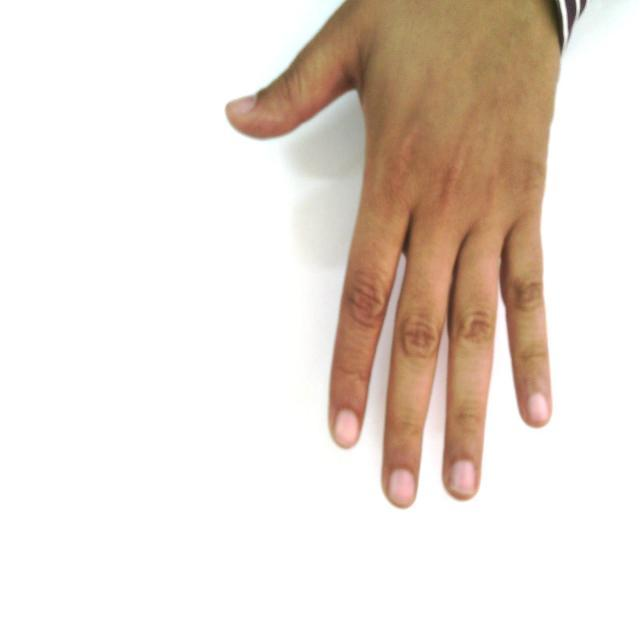Fingernail: (451, 461, 476, 495), (336, 410, 359, 446), (390, 470, 414, 503), (230, 96, 257, 117), (528, 395, 548, 423)
